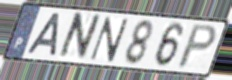6: (154, 21, 186, 69)
8: (123, 18, 155, 66)
A: (24, 12, 63, 59)
N: (54, 11, 103, 62), (87, 16, 131, 64)
P: (175, 23, 220, 71)
